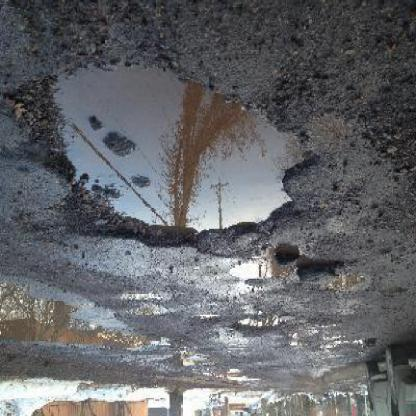pothole: (20, 66, 317, 256), (235, 316, 283, 337), (327, 276, 375, 295), (230, 265, 272, 286)
